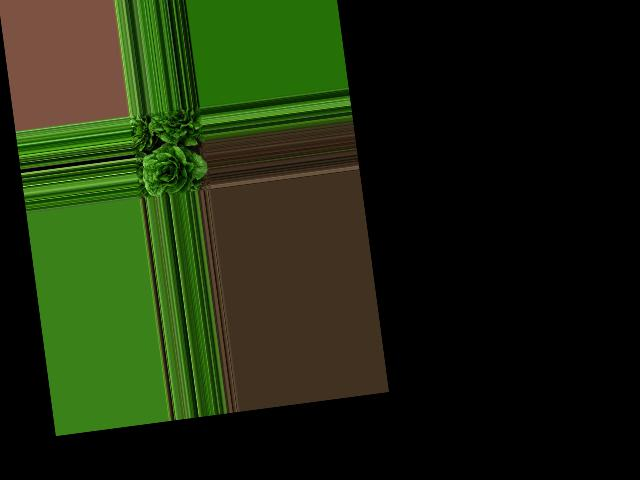lettuce: (146, 105, 202, 146)
